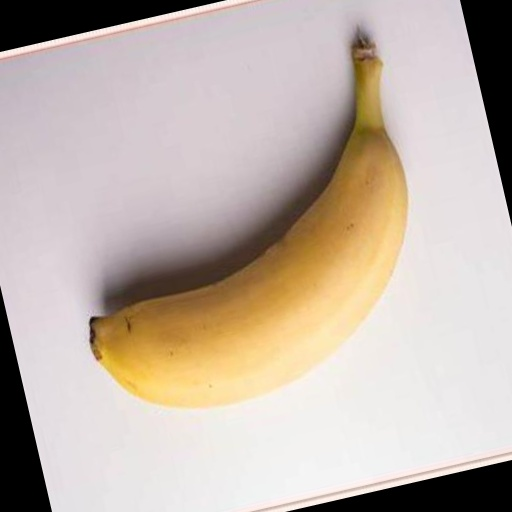fruit: (20, 189, 213, 512)
